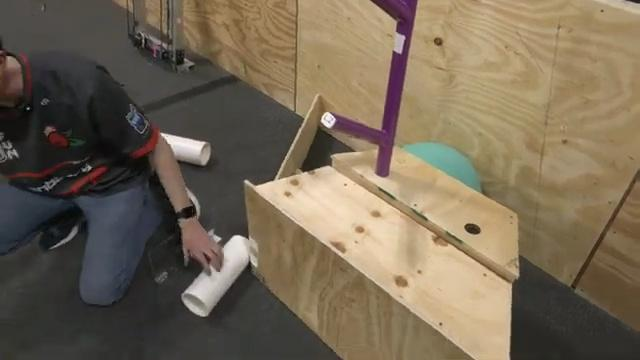CORAL: (179, 232, 251, 317), (154, 131, 212, 168)
